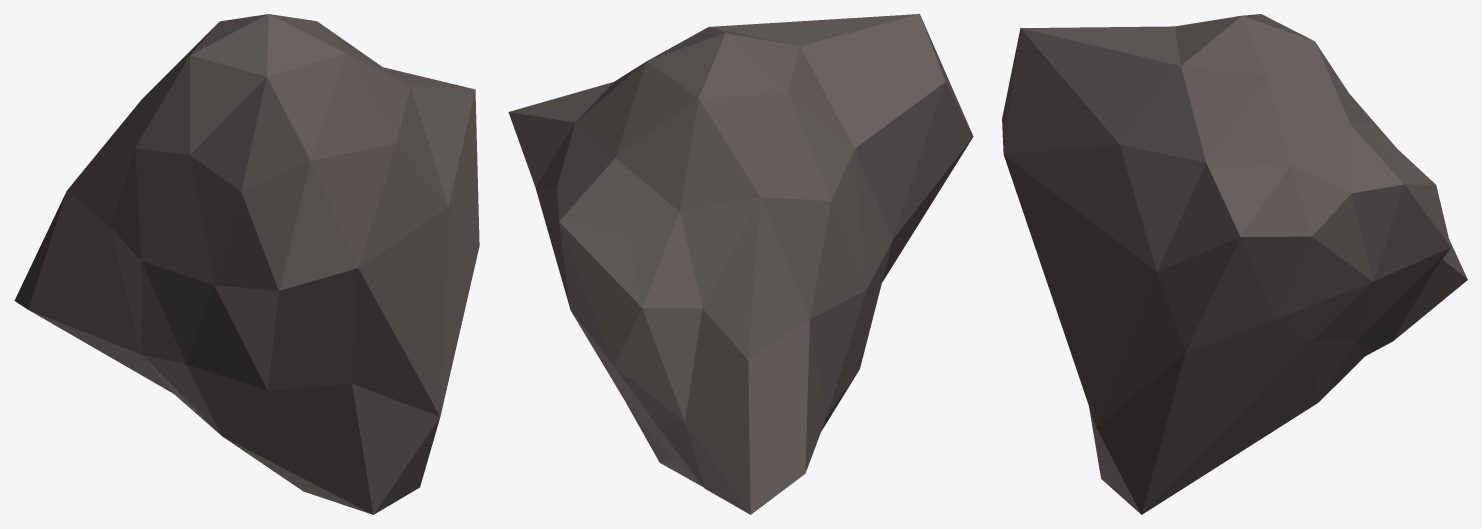
File: Rock 5.fbx
The picture shows the model from 3 angles, left to right: view 1: azimuth 30°, elevation 25°; view 2: azimuth 150°, elevation 25°; view 3: azimuth 270°, elevation 25°; orthographic projection. The views are drawn at different scales.
Visible parts, largest first — view 1: Rock 5; view 2: Rock 5; view 3: Rock 5.
Boxes of the visible parts, bbox=[...] form: Rock 5: bbox=[14, 14, 479, 514]; Rock 5: bbox=[508, 14, 973, 514]; Rock 5: bbox=[1002, 14, 1467, 514].
Size of the model in its own units: 327 by 399 by 370.
